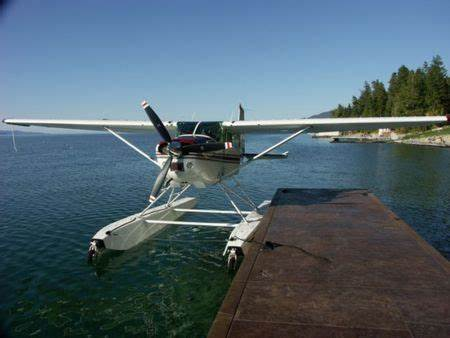Aeronef_commercial: (1, 83, 450, 277)
